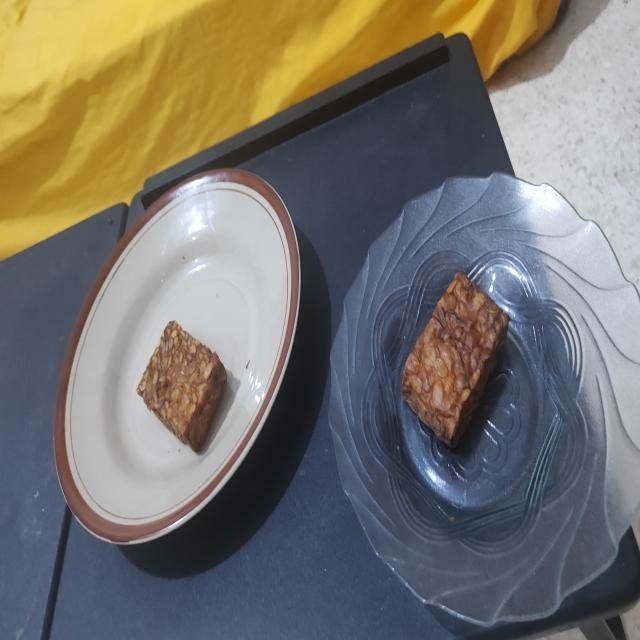tempe_goreng: (402, 272, 509, 446), (138, 321, 226, 451)
